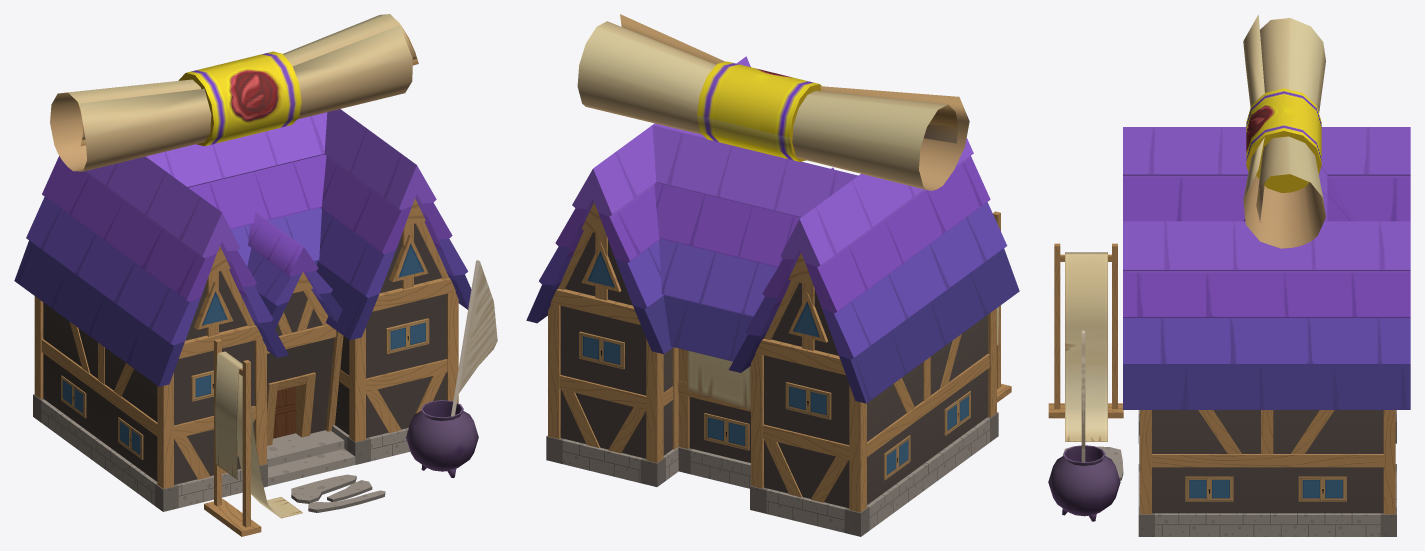
The model's file is building_spell_lv5.FBX.
3 renders of one model, left to right at view 1: azimuth 30°, elevation 25°; view 2: azimuth 150°, elevation 25°; view 3: azimuth 270°, elevation 25°, orthographic. The views are drawn at different scales.
Visible parts, largest first — view 1: building_spell_roof_lv5, building_spell_lv5, building_spell_etc01_lv5, building_spell_main_lv5, building_spell_under_lv5, building_spell_etc02_lv5, building_spell_etc03_lv5; view 2: building_spell_roof_lv5, building_spell_lv5, building_spell_etc01_lv5, building_spell_main_lv5, building_spell_under_lv5, building_spell_etc02_lv5; view 3: building_spell_roof_lv5, building_spell_main_lv5, building_spell_etc01_lv5, building_spell_etc02_lv5, building_spell_lv5, building_spell_under_lv5, building_spell_etc03_lv5.
Boxes of the visible parts, left/top/right/bottom form: building_spell_roof_lv5: left=14, top=109, right=471, bottom=386; building_spell_lv5: left=34, top=198, right=458, bottom=488; building_spell_etc01_lv5: left=50, top=14, right=418, bottom=171; building_spell_main_lv5: left=43, top=223, right=446, bottom=484; building_spell_under_lv5: left=33, top=394, right=410, bottom=512; building_spell_etc02_lv5: left=204, top=338, right=302, bottom=536; building_spell_etc03_lv5: left=406, top=260, right=497, bottom=477; building_spell_roof_lv5: left=526, top=56, right=1019, bottom=403; building_spell_lv5: left=548, top=202, right=996, bottom=512; building_spell_etc01_lv5: left=577, top=14, right=969, bottom=190; building_spell_main_lv5: left=560, top=232, right=987, bottom=508; building_spell_under_lv5: left=546, top=412, right=998, bottom=536; building_spell_etc02_lv5: left=993, top=211, right=1011, bottom=402; building_spell_roof_lv5: left=1123, top=127, right=1410, bottom=409; building_spell_main_lv5: left=1152, top=410, right=1383, bottom=513; building_spell_etc01_lv5: left=1243, top=14, right=1325, bottom=248; building_spell_etc02_lv5: left=1048, top=243, right=1123, bottom=441; building_spell_lv5: left=1140, top=410, right=1395, bottom=514; building_spell_under_lv5: left=1062, top=410, right=1396, bottom=536; building_spell_etc03_lv5: left=1048, top=330, right=1120, bottom=521.
Size of the model in its own units: 648 by 674 by 599.
